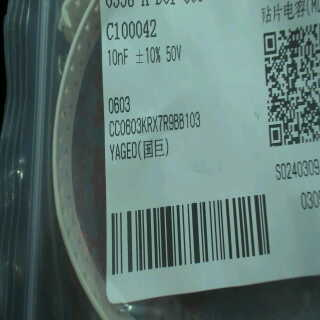10nF: (105, 45, 134, 73)
